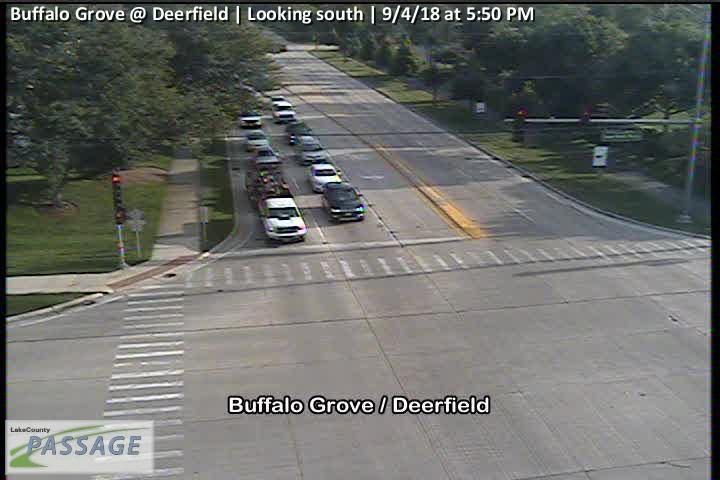Sedan: (260, 195, 306, 241), (322, 181, 365, 223), (309, 163, 342, 192), (295, 136, 325, 164), (285, 121, 311, 142), (270, 101, 296, 122), (243, 129, 269, 148), (255, 146, 278, 164), (241, 113, 263, 127)
